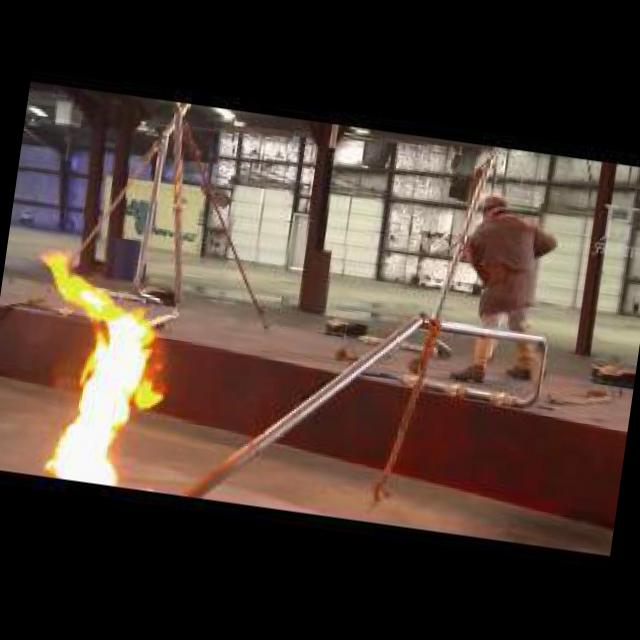fire: (12, 238, 182, 490)
